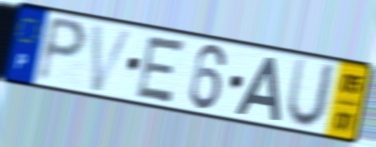6: (187, 43, 227, 112)
A: (233, 55, 282, 123)
E: (132, 33, 189, 106)
P: (34, 13, 89, 86)
U: (283, 55, 339, 131)
V: (88, 22, 137, 95)
